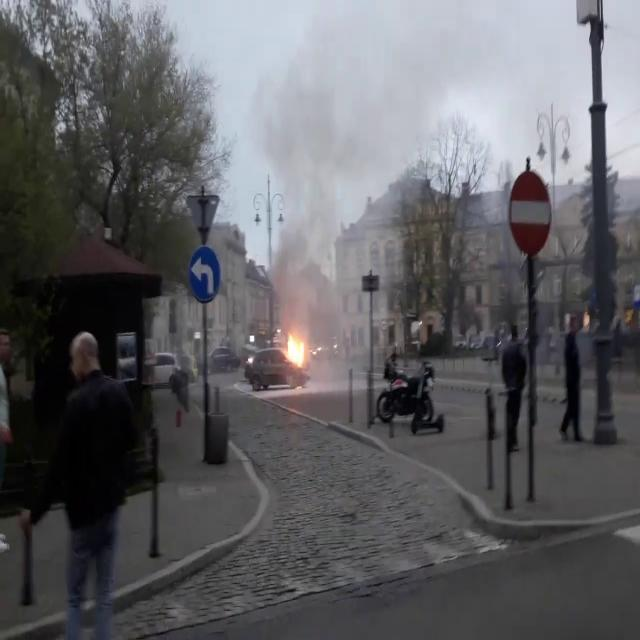Fire: (280, 322, 312, 372)
Smoke: (258, 25, 372, 328)
